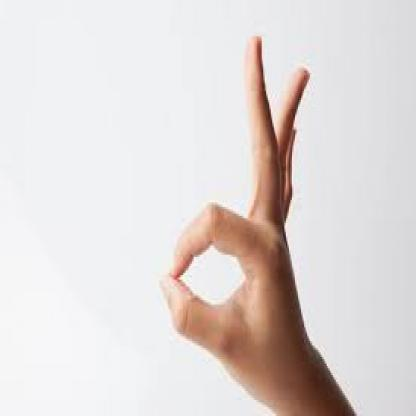ok: (158, 29, 312, 362)
